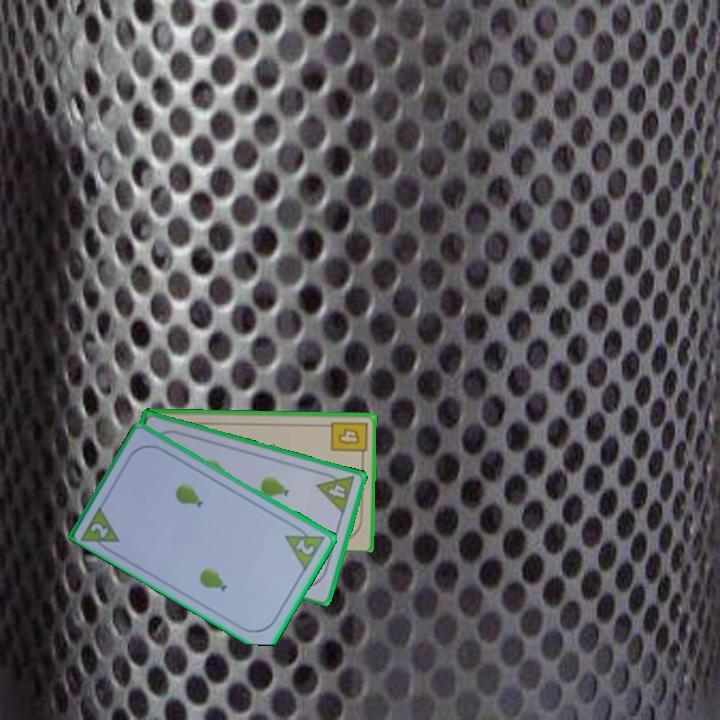2p: (282, 520, 328, 573), (87, 519, 112, 541)
4b: (327, 418, 370, 461)
4p: (313, 467, 357, 516)
